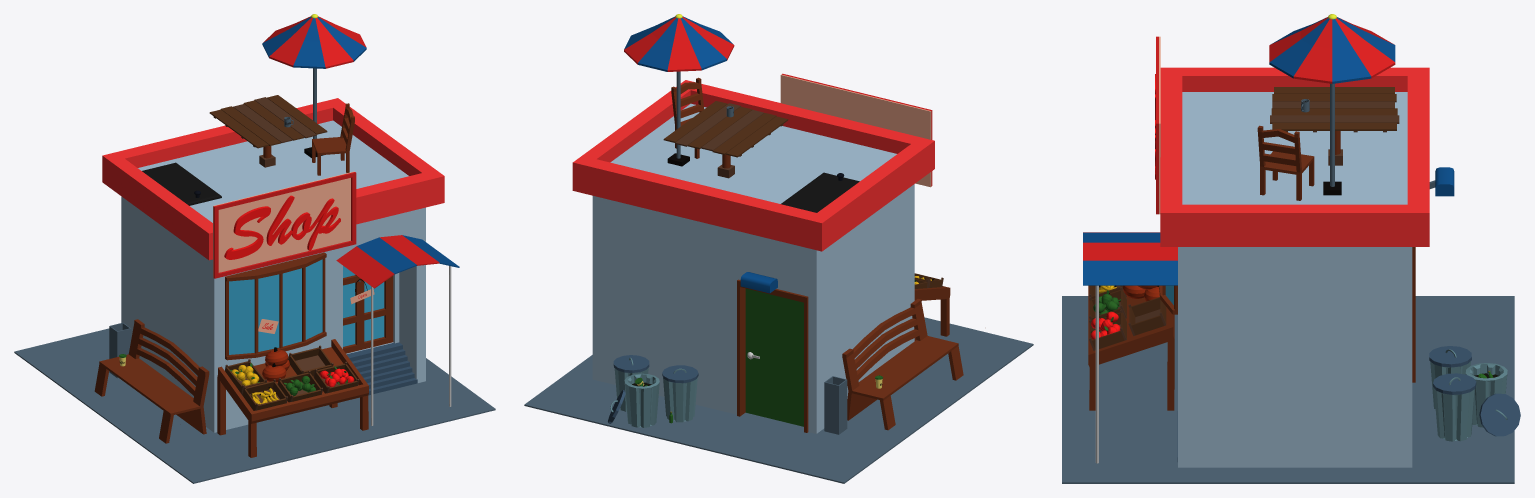
File: Shop.fbx
3 views of the same model, side by side, from view 1: azimuth 30°, elevation 25°; view 2: azimuth 150°, elevation 25°; view 3: azimuth 270°, elevation 25° (orthographic). The views are drawn at different scales.
Visible parts, largest first — view 1: Box001, Box021, Box012, Box020, Box011, Box016, Box010, Object006, TextPlus001, Object002, Object014, Cylinder010 (+13 smaller); view 2: Box001, Box021, Box012, Object012, Box016, Box020, Cylinder010, Object014, Object011, Cylinder009, Box033, Tube005 (+12 smaller); view 3: Box001, Box021, Box012, Box009, Object014, Cylinder010, Box010, Box014, Object003, Cylinder007, Object017, Cylinder009 (+13 smaller).
Part boxes in pixels (bbox=[...]): Box001: bbox=[121, 120, 425, 432]; Box021: bbox=[14, 328, 495, 483]; Box012: bbox=[102, 98, 444, 260]; Box020: bbox=[213, 171, 354, 277]; Box011: bbox=[229, 259, 322, 354]; Box016: bbox=[94, 319, 209, 443]; Box010: bbox=[217, 339, 368, 457]; Object006: bbox=[225, 252, 326, 360]; TextPlus001: bbox=[224, 195, 340, 259]; Object002: bbox=[213, 172, 356, 278]; Object014: bbox=[263, 16, 366, 68]; Cylinder010: bbox=[262, 17, 366, 68]; Box001: bbox=[592, 103, 914, 433]; Box021: bbox=[524, 317, 1033, 483]; Box012: bbox=[572, 80, 934, 251]; Object012: bbox=[745, 288, 803, 426]; Box016: bbox=[842, 299, 963, 430]; Box020: bbox=[780, 74, 931, 187]; Cylinder010: bbox=[624, 16, 733, 71]; Object014: bbox=[624, 17, 734, 71]; Object011: bbox=[737, 279, 808, 432]; Cylinder009: bbox=[624, 373, 659, 427]; Box033: bbox=[781, 172, 859, 212]; Tube005: bbox=[824, 376, 847, 434]; Box001: bbox=[1178, 92, 1412, 467]; Box021: bbox=[1062, 296, 1514, 483]; Box012: bbox=[1160, 67, 1429, 246]; Box009: bbox=[1083, 232, 1177, 285]; Object014: bbox=[1269, 17, 1395, 83]; Cylinder010: bbox=[1269, 17, 1395, 83]; Box010: bbox=[1088, 285, 1174, 410]; Box014: bbox=[1257, 125, 1314, 200]; Object003: bbox=[1083, 232, 1177, 260]; Cylinder007: bbox=[1434, 388, 1475, 441]; Object017: bbox=[1479, 393, 1520, 436]; Cylinder009: bbox=[1465, 363, 1507, 427].
Size of the model in its own units: 200 by 216 by 208.
